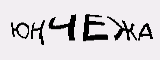А: (137, 22, 153, 41)
Е: (81, 12, 109, 42)
Ж: (105, 15, 138, 41)
Ч: (48, 14, 78, 42)
Ю: (10, 22, 30, 39)
Ң: (29, 20, 46, 45)
